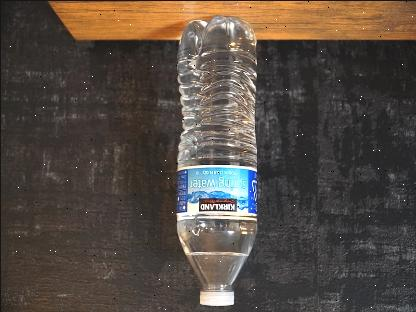Plastic Bottle: (174, 16, 258, 306)
